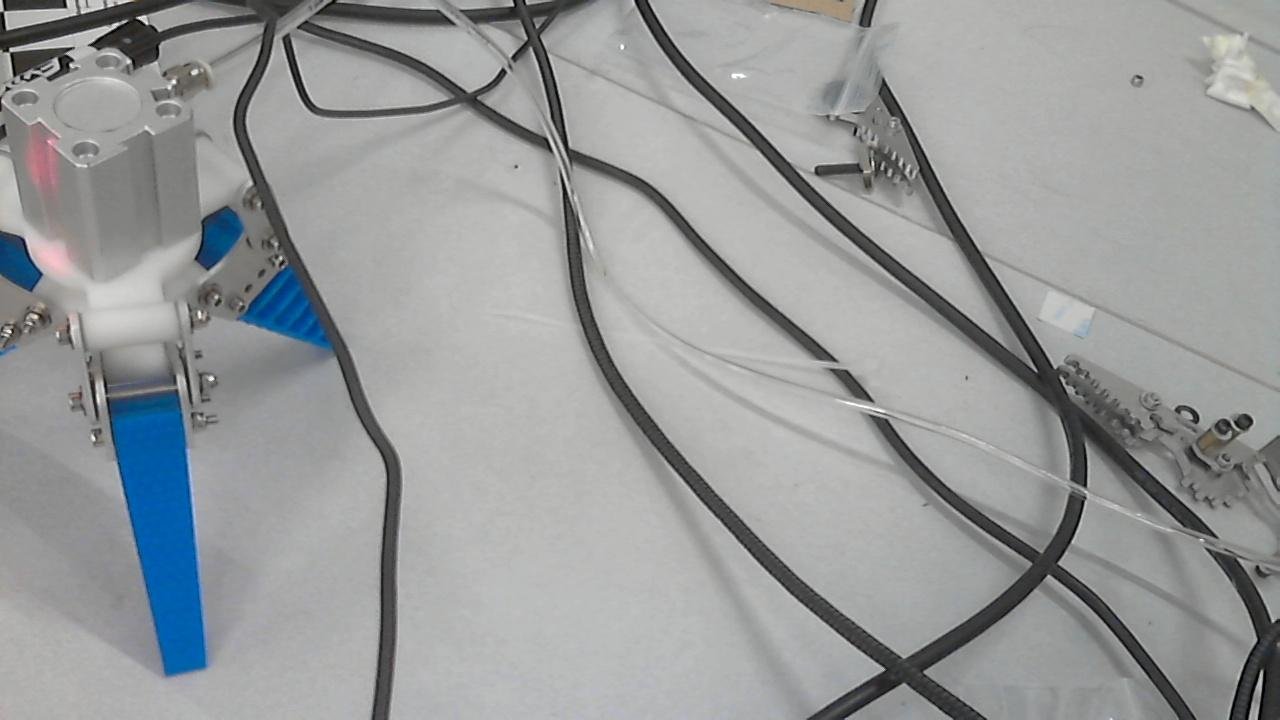Object robotic gripper finger assembly - Material plastic - Color blue - Pdfname: (5, 122, 104, 212)
